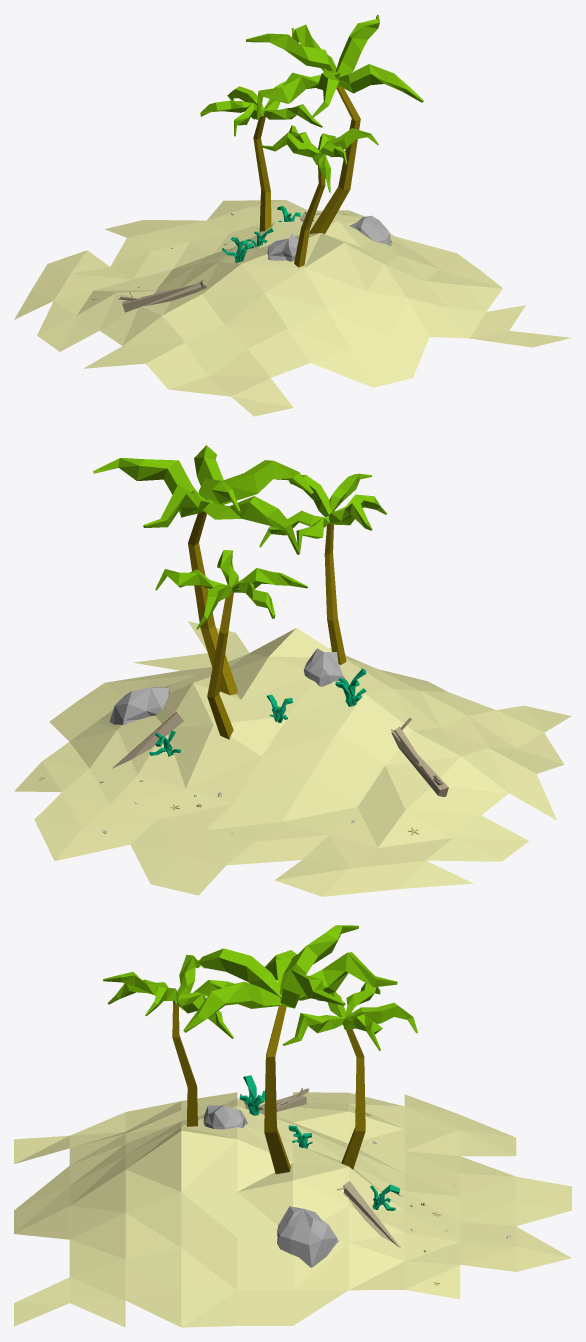
The model's file is island.fbx.
3 renders of one model, top to bottom at view 1: azimuth 30°, elevation 25°; view 2: azimuth 150°, elevation 25°; view 3: azimuth 270°, elevation 25°, orthographic. The views are drawn at different scales.
Parts seen in each view (by area): view 1: pPlane3; view 2: pPlane3; view 3: pPlane3.
Part boxes in pixels (x1=…): pPlane3: x1=14, y1=14, x2=571, y2=416; pPlane3: x1=14, y1=445, x2=571, y2=896; pPlane3: x1=14, y1=925, x2=571, y2=1327.
Size of the model in its own units: 100 by 60.22 by 100.
